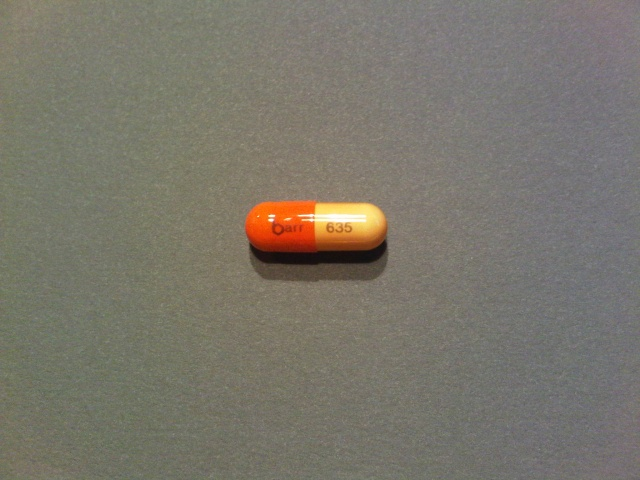capsule: (244, 199, 389, 255)
